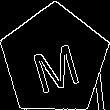M_N: (26, 29, 83, 92)
